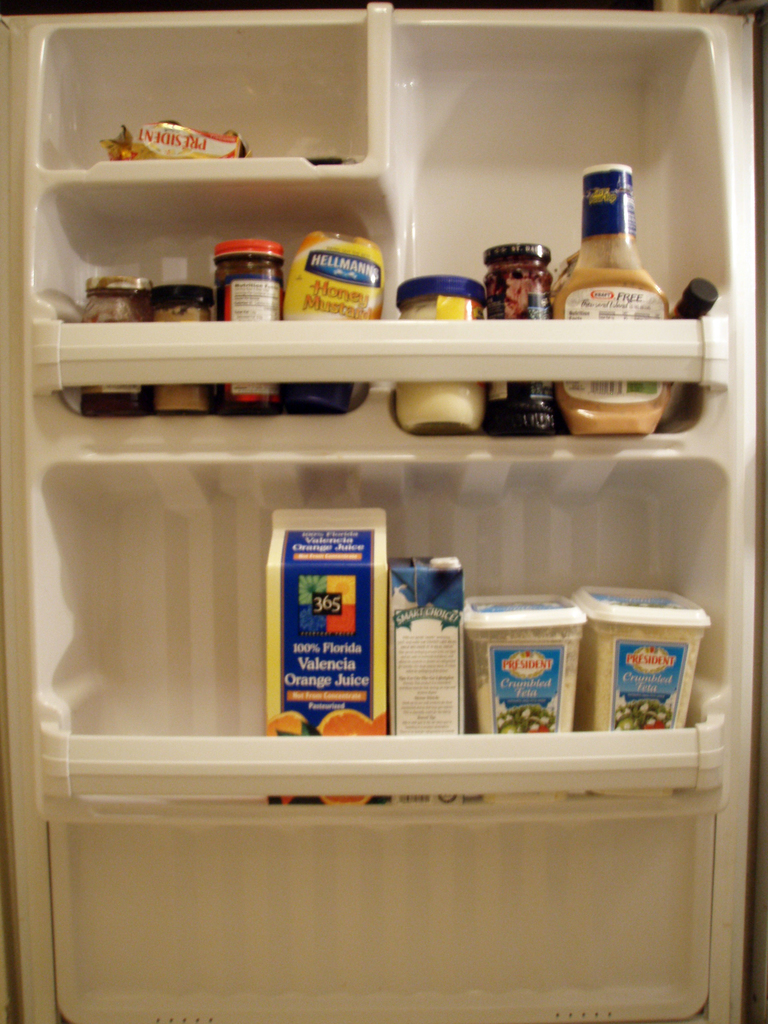refrigerator door: (25, 63, 741, 1015)
